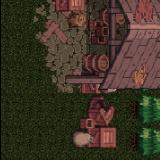Obstacle: (29, 0, 160, 93), (62, 94, 125, 160), (9, 0, 80, 45), (126, 125, 160, 160), (125, 93, 160, 125)
